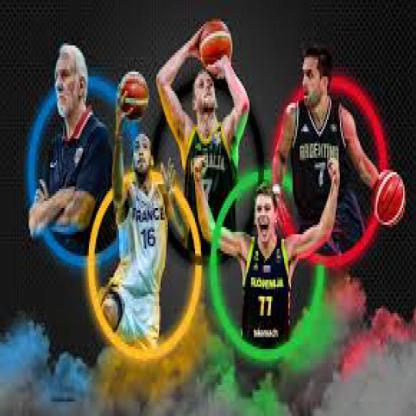basketball: (371, 170, 406, 232), (199, 16, 234, 74), (119, 72, 147, 119)
